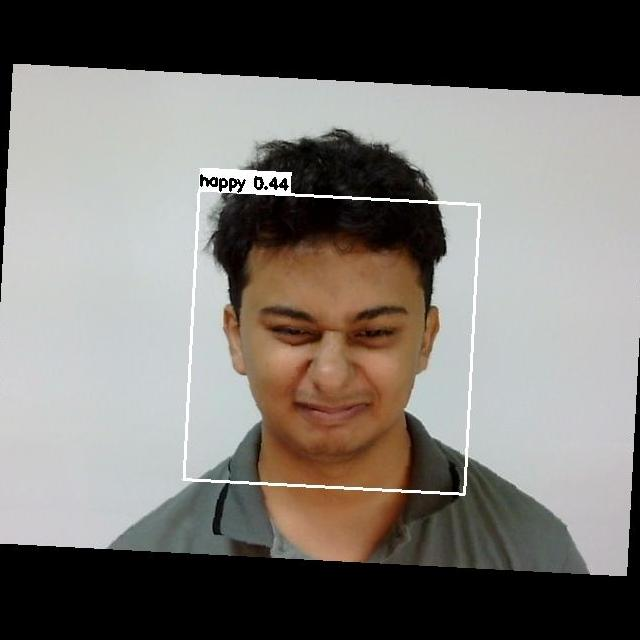Angry: (236, 281, 439, 445)
